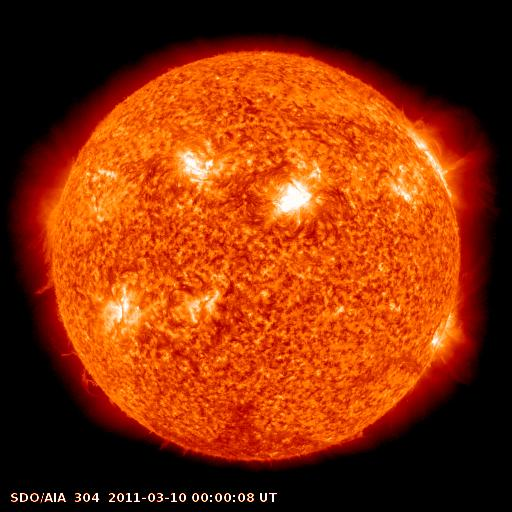prominence: (49, 330, 111, 402), (23, 231, 63, 298)
